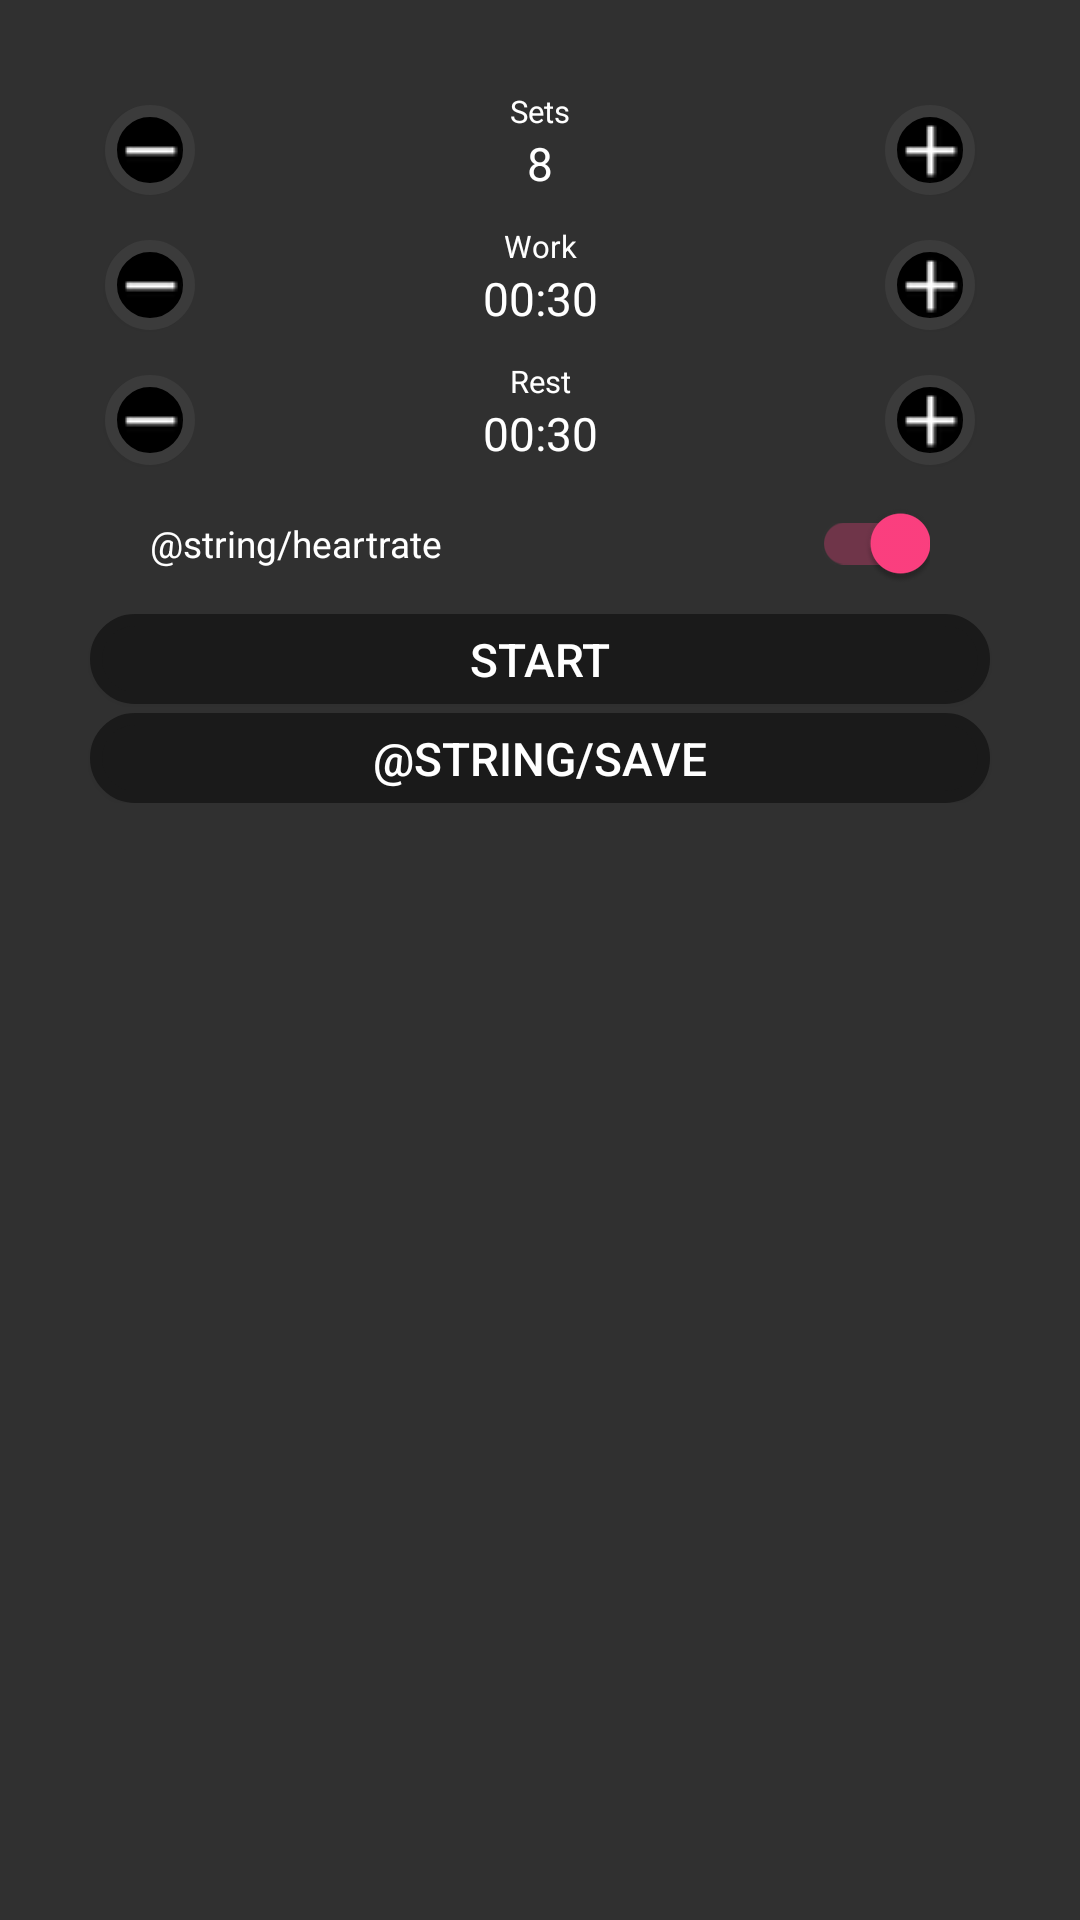

Screen size 1080 x 1920. Icon name, then its box in pixels as [x1,y1,x2,y2]:
add: [897,117,963,183], [897,252,963,318], [897,387,963,453]
remove: [117,117,183,183], [117,252,183,318], [117,387,183,453]
